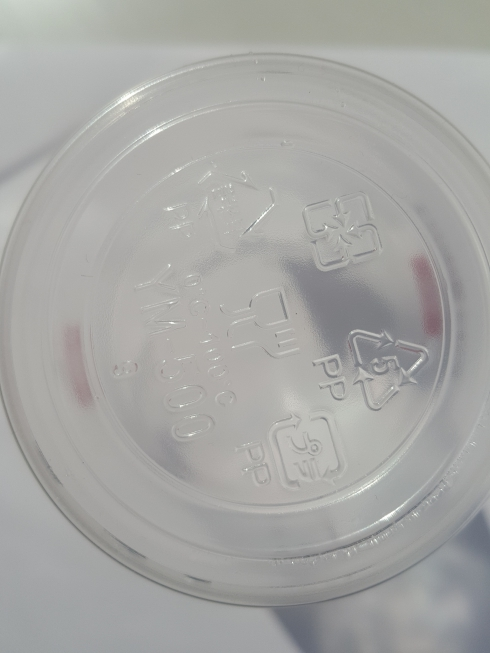recycle: (307, 309, 435, 415)
